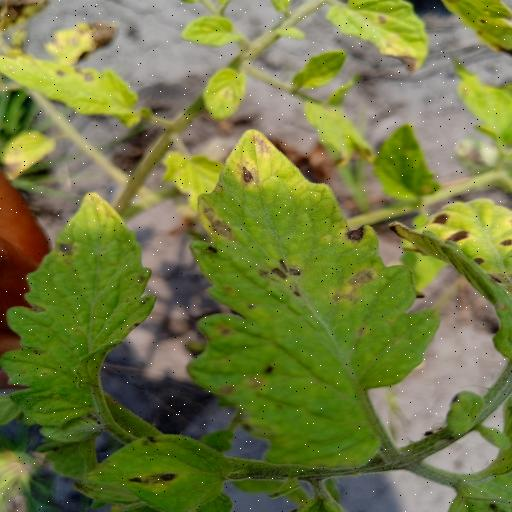Tomato_Brown_Spots: (184, 128, 444, 476), (4, 181, 166, 449)
